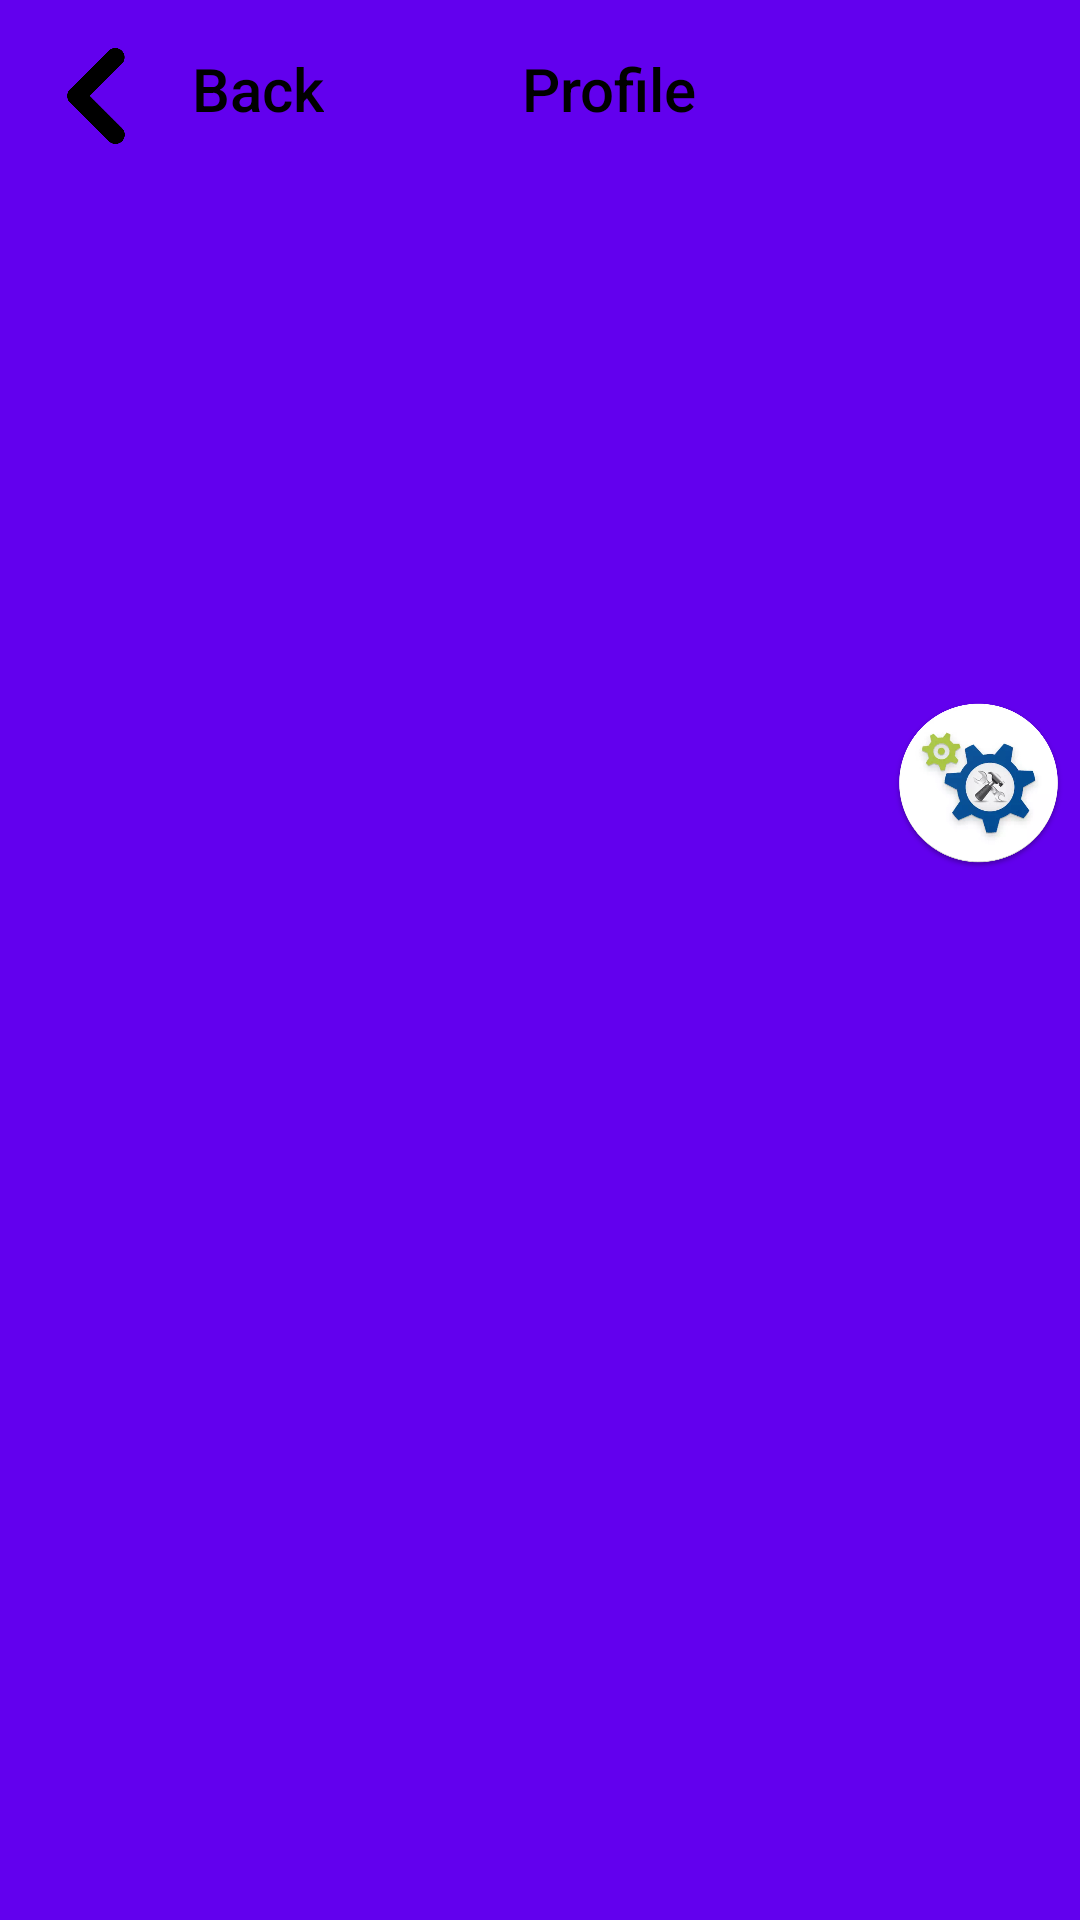

Named icons in this screenshot (1080w x 1920h) and their centers, [x,y]:
previous: [96,96]
